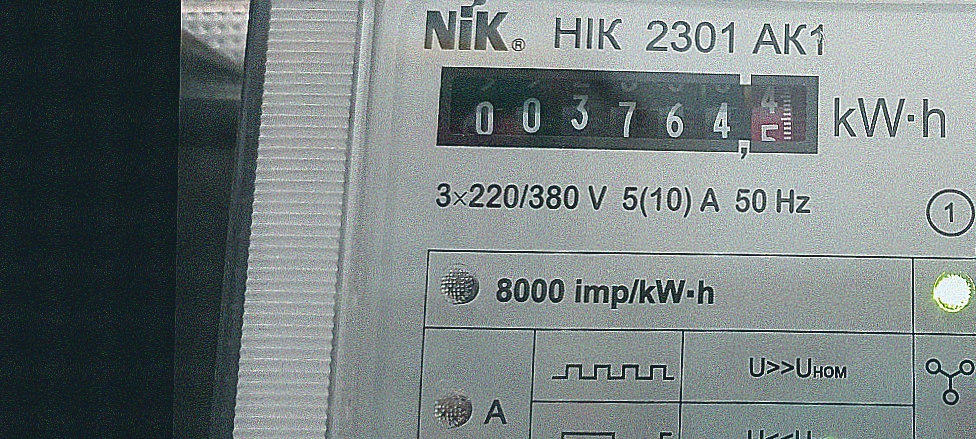0: (471, 97, 495, 135), (519, 94, 541, 134)
3: (567, 91, 590, 131)
4: (711, 99, 731, 139), (758, 82, 780, 114)
5: (757, 121, 779, 143)
6: (663, 99, 684, 138)
7: (614, 96, 638, 139)
screen: (421, 50, 834, 167)
